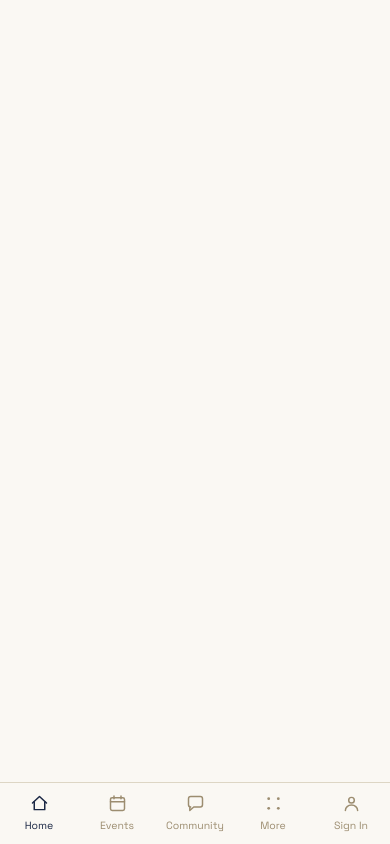
Test: MobileNav › clicking More opens the sheet, clicking the overlay closes it
The image size is (390, 844).
Click the button "More" at (273, 814), box 234,783 -> 312,843
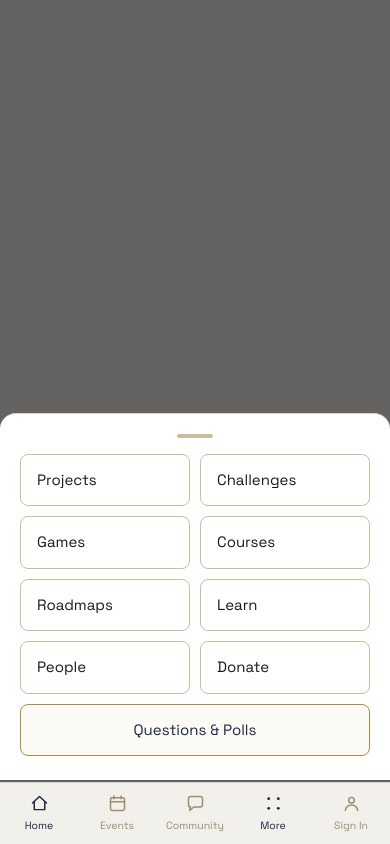
Now the dialog is shown, box 0,412 -> 389,780
Click the button named "Close menu" at (195, 51), box 0,0 -> 389,843
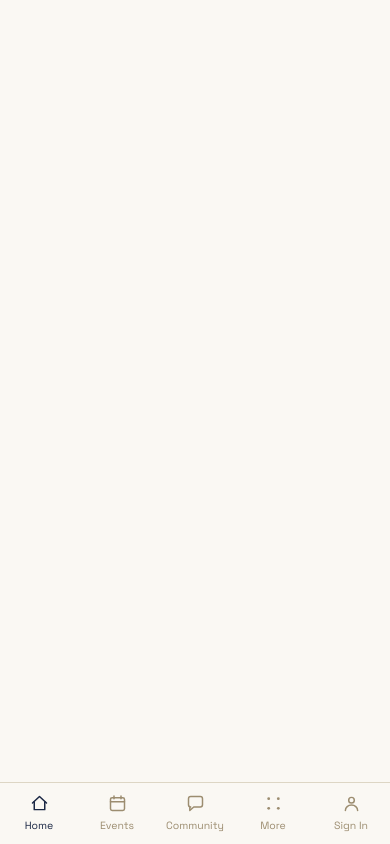
Now the dialog is gone
